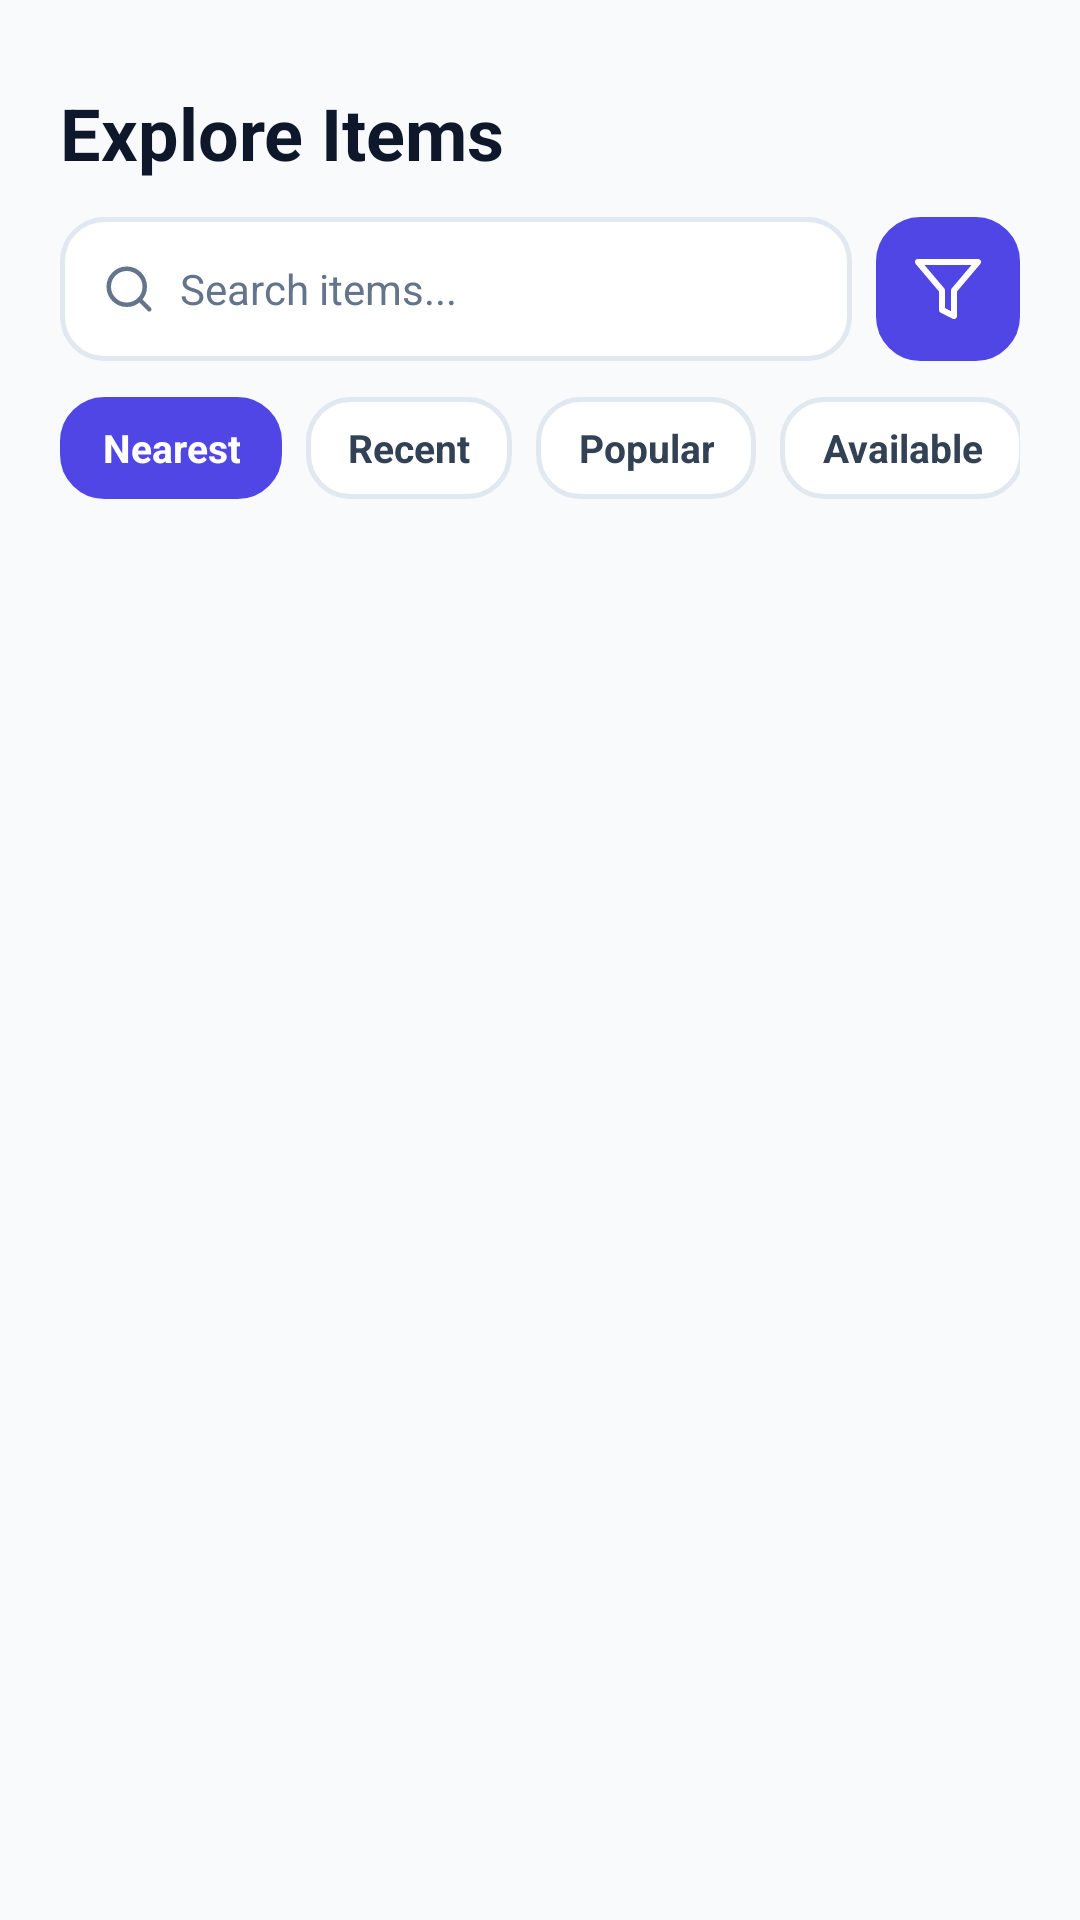

Screen size 1080w x 1920h. Icon name, then its center in pixels as (x=x, y=y):
filter: (x=948, y=289)
